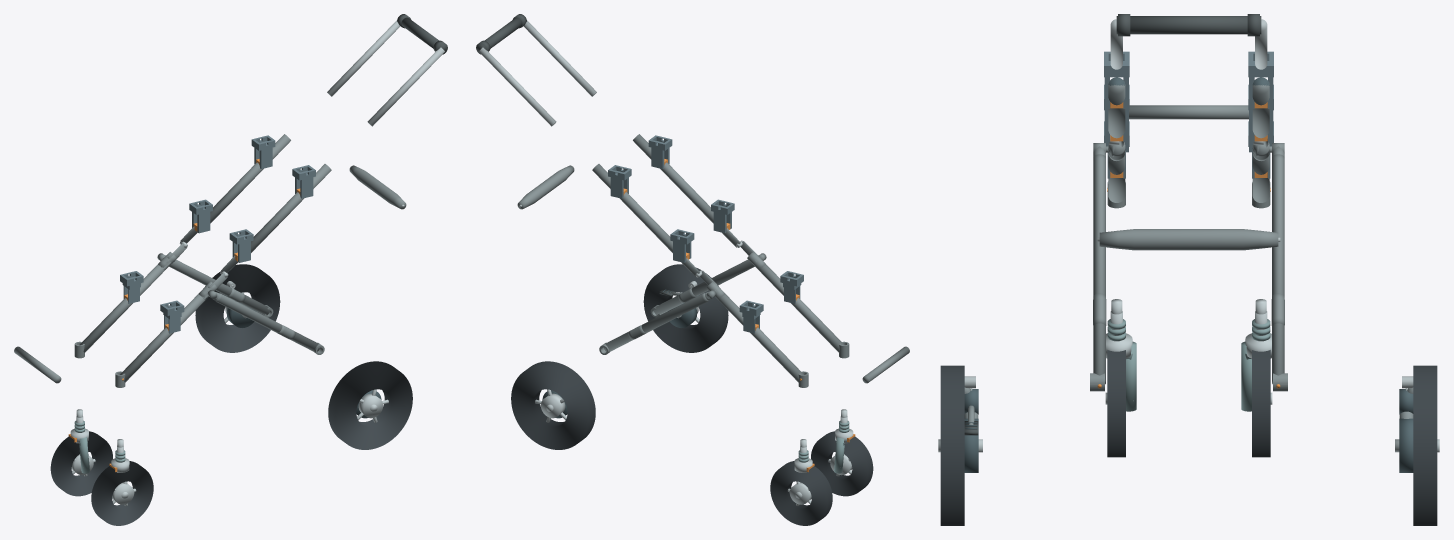
The model's file is w380_state6_wheel_M.glb.
3 renders of one model, left to right at view 1: azimuth 30°, elevation 25°; view 2: azimuth 150°, elevation 25°; view 3: azimuth 270°, elevation 25°, orthographic. The views are drawn at different scales.
Parts seen in each view (by area): view 1: RL_tire.003, RR_tire.003, FL_tire.003, FR_tire.003, main_lower_1.005, V46_rear_leg_-1.005, main_lower_-1.005, main_upper_1.005, main_upper_-1.005, V46_rear_leg_1.005, handle_slider_-1.003, V46_rearbar.005 (+7 smaller); view 2: RR_tire.003, RL_tire.003, FR_tire.003, FL_tire.003, main_lower_-1.005, V46_rear_leg_1.005, main_lower_1.005, main_upper_-1.005, main_upper_1.005, V46_rear_leg_-1.005, handle_slider_1.003, V46_rearbar.005 (+7 smaller); view 3: RL_tire.003, RR_tire.003, V46_rearbar.005, V46_rear_leg_1.005, V46_rear_leg_-1.005, round_handle.003, FL_tire.003, FR_tire.003, front_fixed_round_tube.003, main_upper_-1.005, main_upper_1.005, RR_brake_backplate.003 (+7 smaller).
Boxes of the visible parts, x1,y1,x2,y2 form: RL_tire.003: (328,361,412,449); RR_tire.003: (195,264,280,352); FL_tire.003: (91,461,153,525); FR_tire.003: (50,431,112,496); main_lower_1.005: (79,262,170,352); V46_rear_leg_-1.005: (215,293,320,351); main_lower_-1.005: (120,294,207,382); main_upper_1.005: (210,134,290,223); main_upper_-1.005: (251,164,331,252); V46_rear_leg_1.005: (169,259,270,315); handle_slider_-1.003: (367,47,444,126); V46_rearbar.005: (349,165,406,209); RR_tire.003: (511,361,595,449); RL_tire.003: (643,264,728,352); FR_tire.003: (770,461,832,525); FL_tire.003: (811,431,873,496); main_lower_-1.005: (753,262,844,352); V46_rear_leg_1.005: (603,293,708,351); main_lower_1.005: (716,294,803,382); main_upper_-1.005: (633,134,713,223); main_upper_1.005: (592,164,672,252); V46_rear_leg_-1.005: (653,259,754,315); handle_slider_1.003: (479,47,556,126); V46_rearbar.005: (517,165,574,209); RL_tire.003: (940,365,964,525); RR_tire.003: (1413,365,1437,525); V46_rearbar.005: (1099,229,1278,250); V46_rear_leg_1.005: (1272,154,1284,384); V46_rear_leg_-1.005: (1093,154,1105,384); round_handle.003: (1116,16,1261,34); FL_tire.003: (1107,350,1125,457); FR_tire.003: (1252,350,1270,457); front_fixed_round_tube.003: (1129,105,1248,119); main_upper_-1.005: (1108,79,1125,138); main_upper_1.005: (1252,79,1269,138); RR_brake_backplate.003: (1399,418,1413,472).
Bounding box in the file's own units: 1.51 × 1.48 × 0.938.
